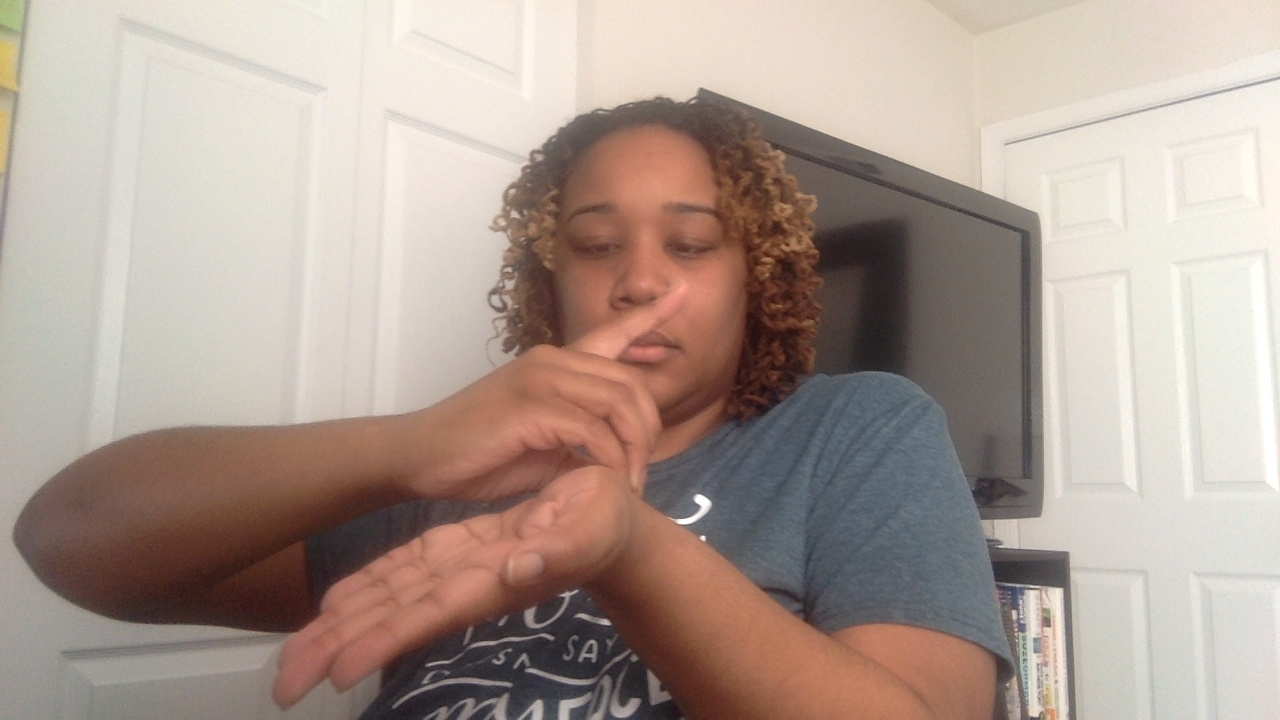doctor: (272, 278, 689, 711)
